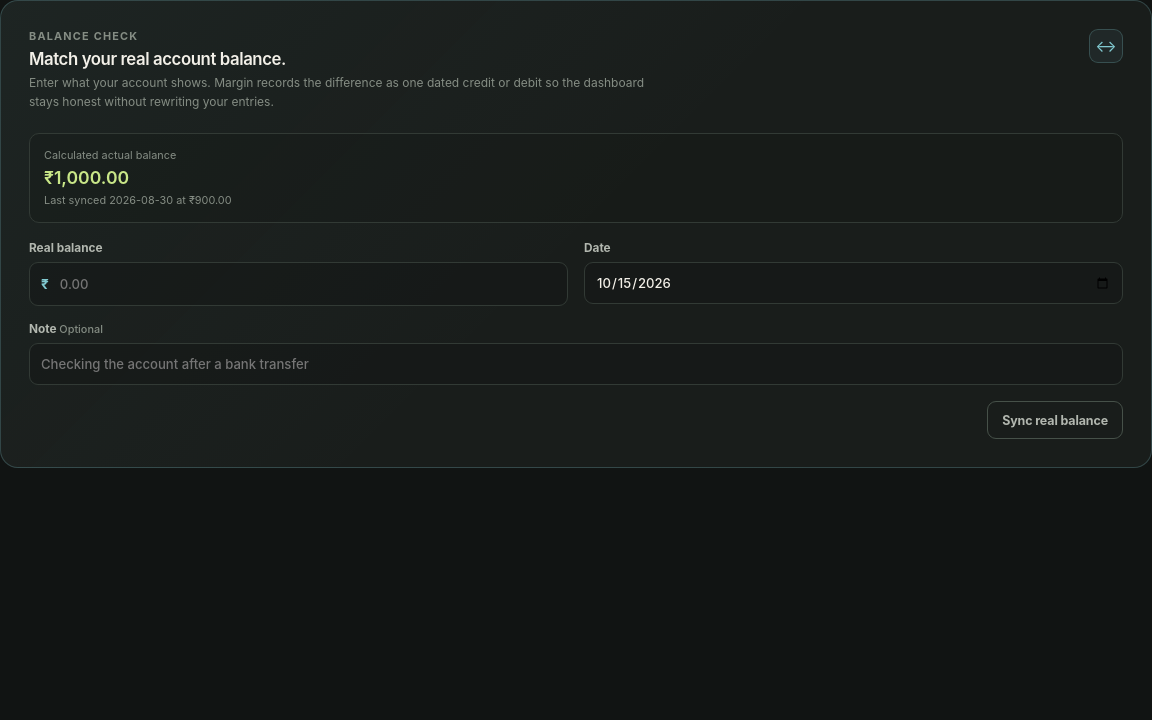
Test: BalanceSyncForm › keeps entered values when the service rejects a sync
The width and height of the screenshot is (1152, 720).
Type "1250" into the field labelled "Real balance".
click(308, 284); type("1250")  # box [49,263,567,305]
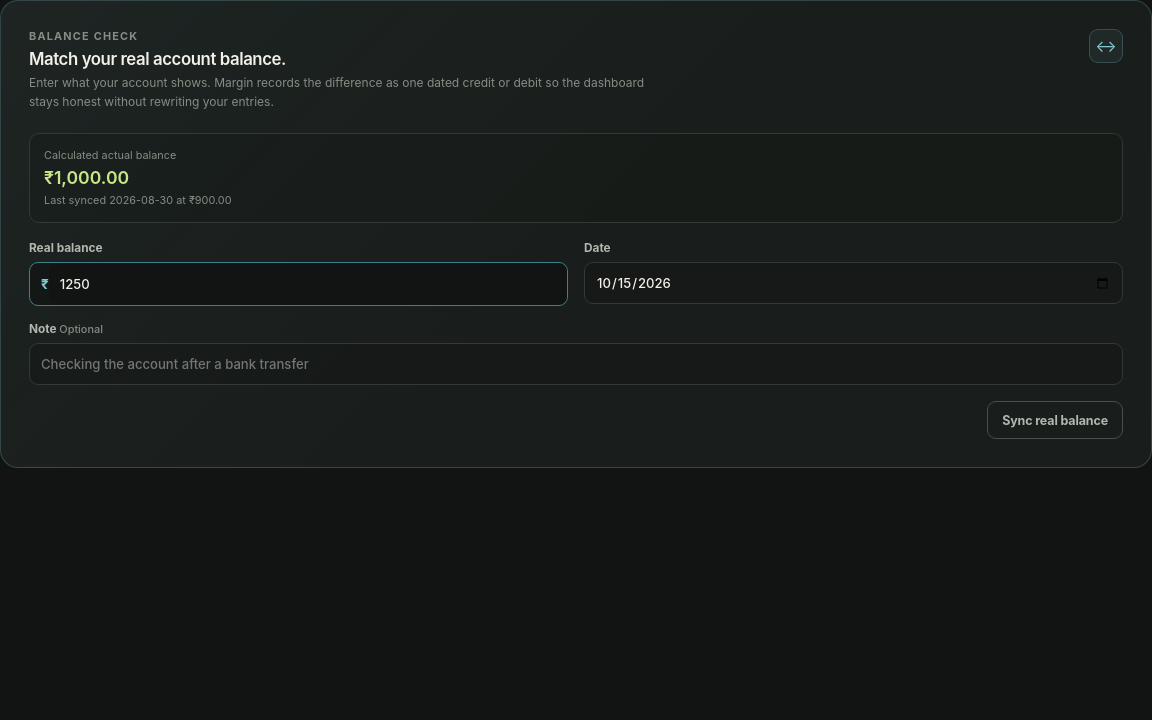
Click the button "Sync real balance".
click(1055, 420)  # box [987,401,1123,439]
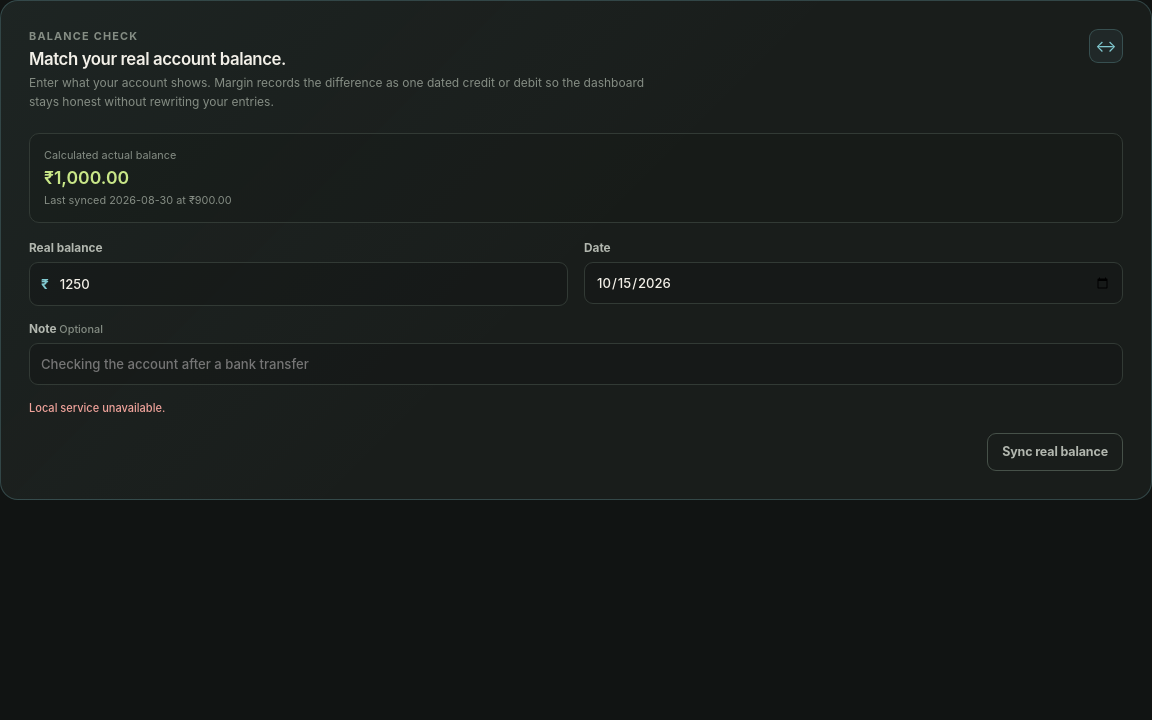
Expected: the message reads "Local service unavailable.", [29,401,165,415]
